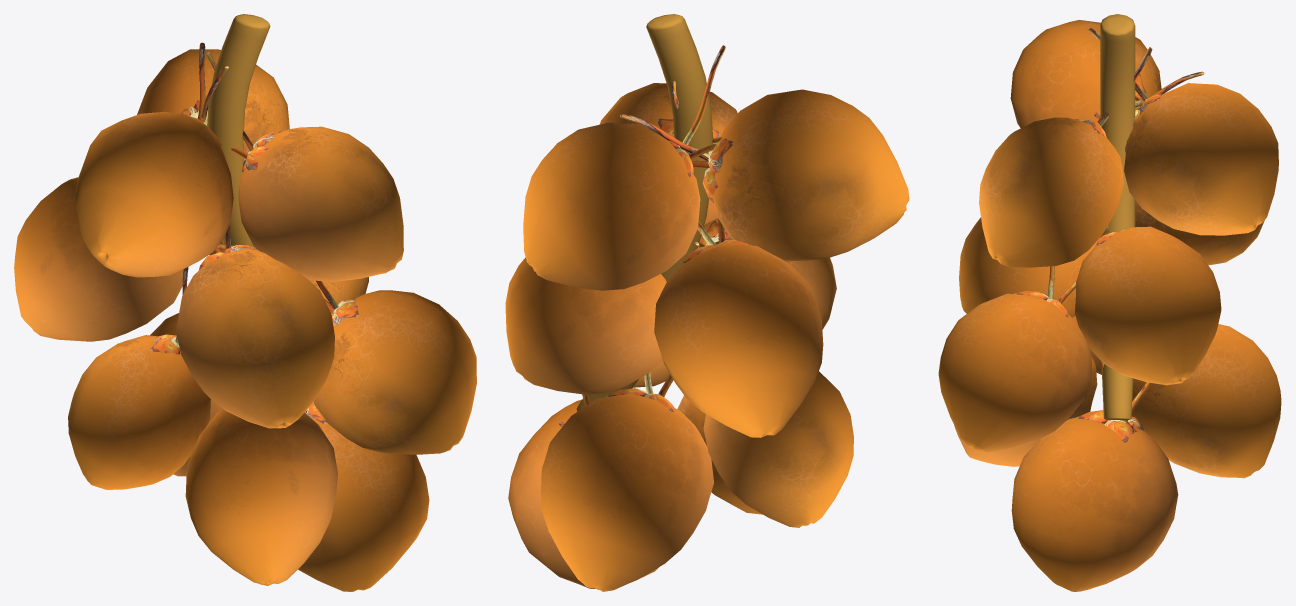
File: king_coconut (1).obj
The picture shows the model from 3 angles, left to right: view 1: azimuth 30°, elevation 25°; view 2: azimuth 150°, elevation 25°; view 3: azimuth 270°, elevation 25°; orthographic projection. The views are drawn at different scales.
Visible parts, largest first — view 1: obj2, obj4, obj9, obj7, obj11, obj5, obj3, obj8, obj6, obj12, obj1, obj10; view 2: obj4, obj10, obj3, obj6, obj1, obj5, obj12, obj8, obj7, obj2, obj11; view 3: obj8, obj6, obj9, obj1, obj7, obj10, obj4, obj12, obj2, obj3, obj11.
Boxes of the visible parts, x1,y1,x2,y2 form: obj2: (175, 225, 334, 428); obj4: (75, 42, 233, 277); obj9: (313, 280, 476, 454); obj7: (206, 52, 403, 281); obj11: (185, 409, 337, 585); obj5: (68, 267, 210, 489); obj3: (14, 177, 183, 341); obj8: (298, 402, 429, 591); obj6: (137, 49, 289, 153); obj12: (207, 14, 270, 248); obj1: (209, 241, 368, 312); obj10: (150, 313, 222, 476); obj4: (620, 89, 909, 261); obj10: (540, 372, 713, 591); obj3: (654, 218, 823, 437); obj6: (523, 45, 725, 290); obj1: (505, 238, 732, 394); obj5: (703, 371, 853, 527); obj12: (576, 14, 713, 411); obj8: (508, 394, 658, 588); obj7: (599, 81, 737, 224); obj2: (695, 218, 836, 329); obj11: (677, 395, 762, 514); obj8: (1011, 360, 1178, 591); obj6: (1087, 27, 1278, 235); obj9: (938, 266, 1091, 452); obj1: (1075, 226, 1221, 385); obj7: (979, 47, 1152, 267); obj10: (1131, 324, 1281, 478); obj4: (1010, 20, 1204, 127); obj12: (1100, 14, 1135, 420); obj2: (959, 143, 1126, 317); obj3: (1135, 200, 1264, 265); obj11: (954, 357, 1097, 466).
Bounding box in the file's own units: 91.04 × 142 × 82.96.
1 material, 1 textured.
